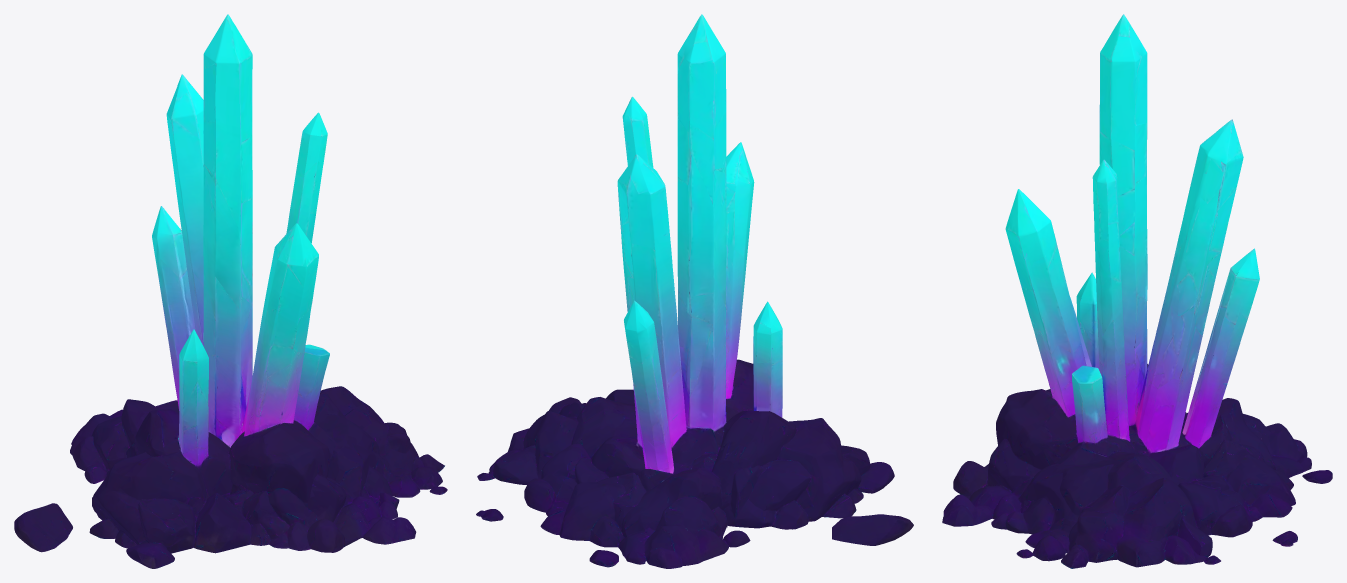
Rendered from prop-crystal-cluster.glb.
The picture shows the model from 3 angles, left to right: view 1: azimuth 30°, elevation 25°; view 2: azimuth 150°, elevation 25°; view 3: azimuth 270°, elevation 25°; orthographic projection. The views are drawn at different scales.
Visible parts, largest first — view 1: Mesh_0; view 2: Mesh_0; view 3: Mesh_0.
Part boxes in pixels (x1,y1,x2,y2): Mesh_0: [14, 14, 447, 568]; Mesh_0: [476, 14, 913, 568]; Mesh_0: [942, 14, 1332, 568].
Bounding box in the file's own units: 1.65 × 1.9 × 1.44.
Materials: 1 (1 with a texture image).
